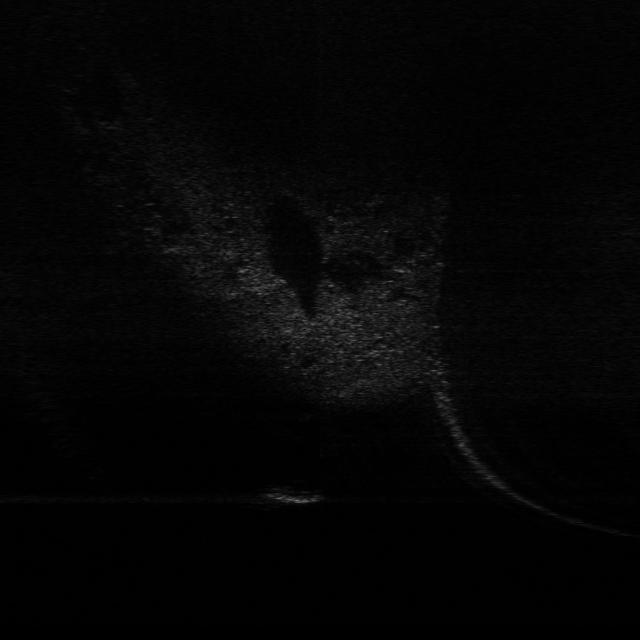cube: (250, 479, 324, 510)
